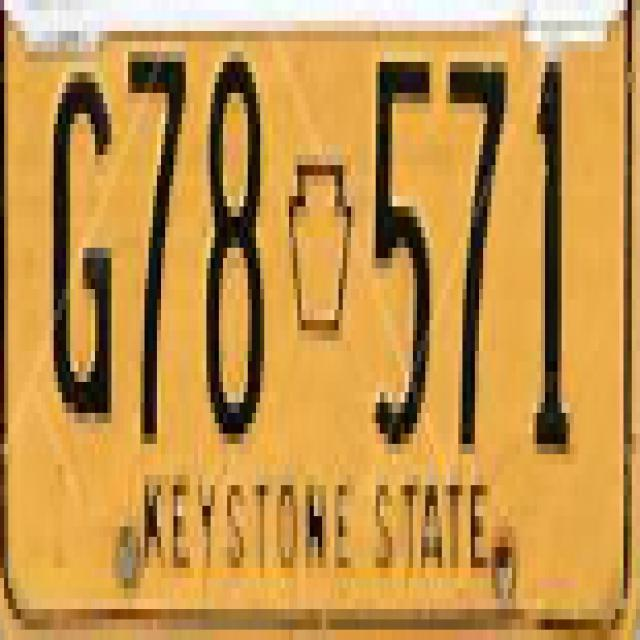1: (530, 40, 576, 463)
5: (368, 40, 436, 453)
7: (442, 43, 507, 456), (124, 40, 186, 452)
8: (202, 36, 278, 436)
G: (48, 49, 120, 433)
